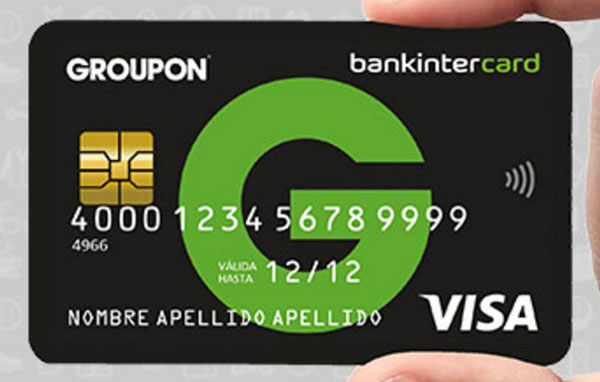tarjeta: (27, 19, 574, 366)
